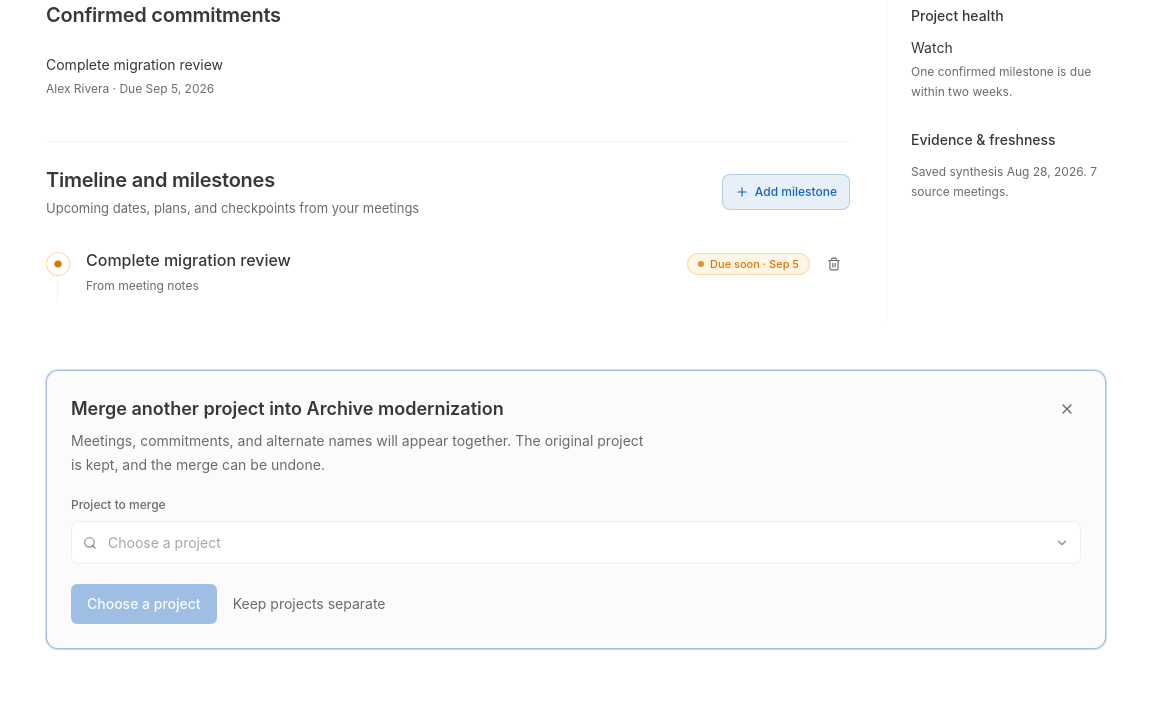
Test: clears merge undo when navigating to another project
Earlier steps of the test are not shown.
Later steps or results of the test are not shown.
(page scrolled)
What coordinates should you click on to do the following:
click the dropdown with id "merge-project-source"
I would click on:
 (576, 542)
Its box is [71,521,1081,564].
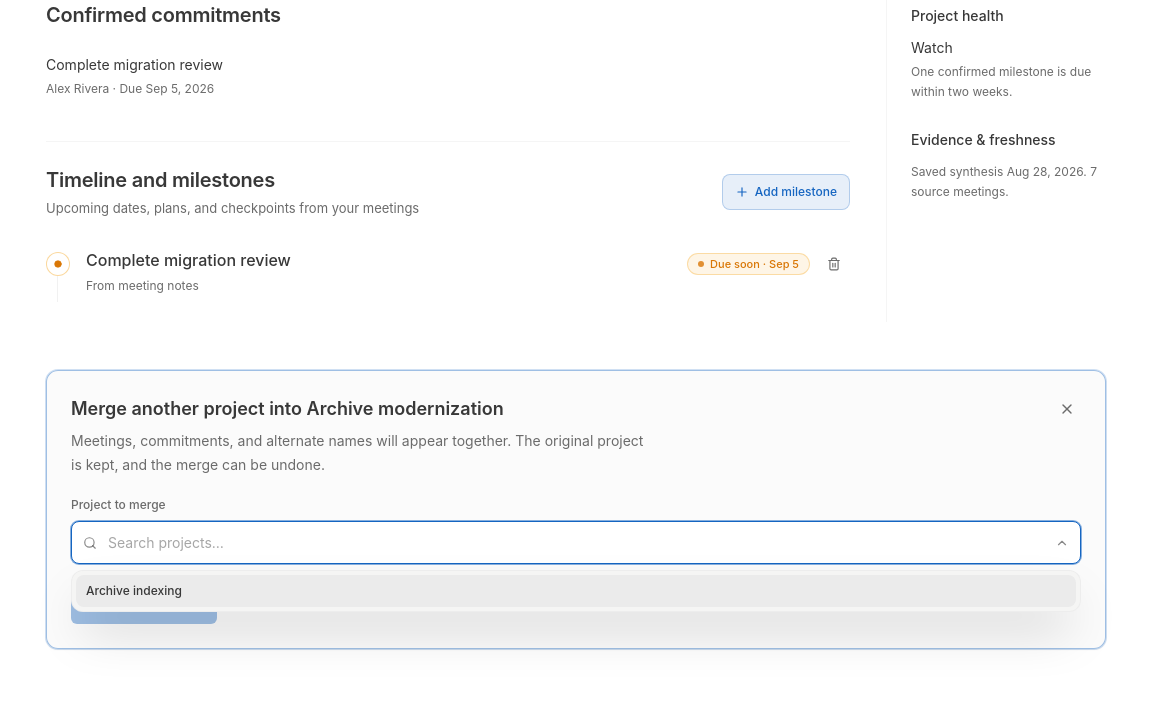
What coordinates should you click on to do the following:
click the option "Archive indexing"
I would click on:
 (134, 591)
Its box is [76,575,1076,607].
(page scrolled)
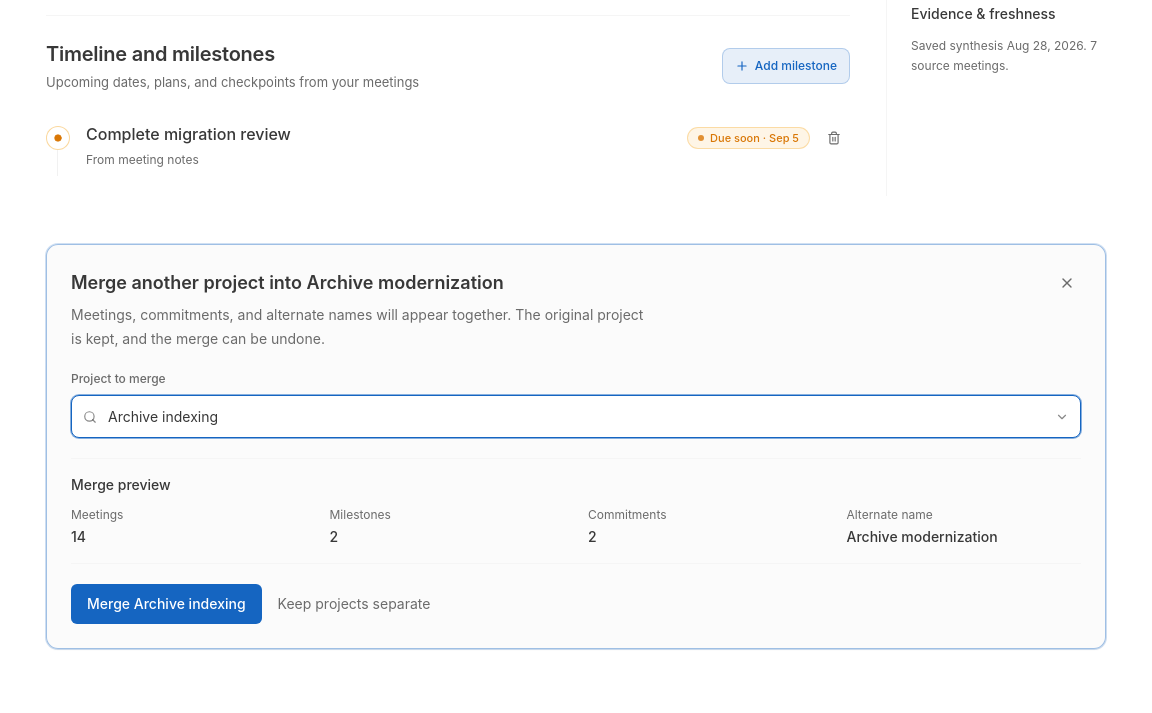
What coordinates should you click on to do the following:
click the button "Merge Archive indexing"
I would click on:
 (166, 604)
Its box is [71,584,262,624].
(page scrolled)
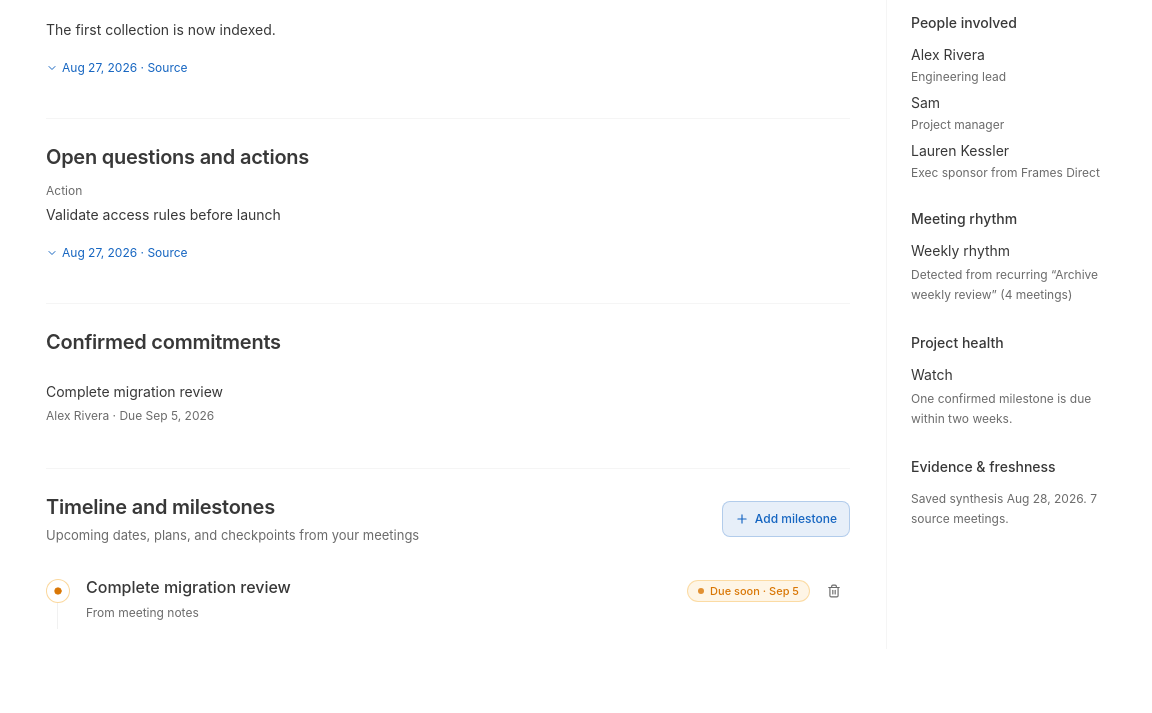
Check: the text "Undo" is gone
